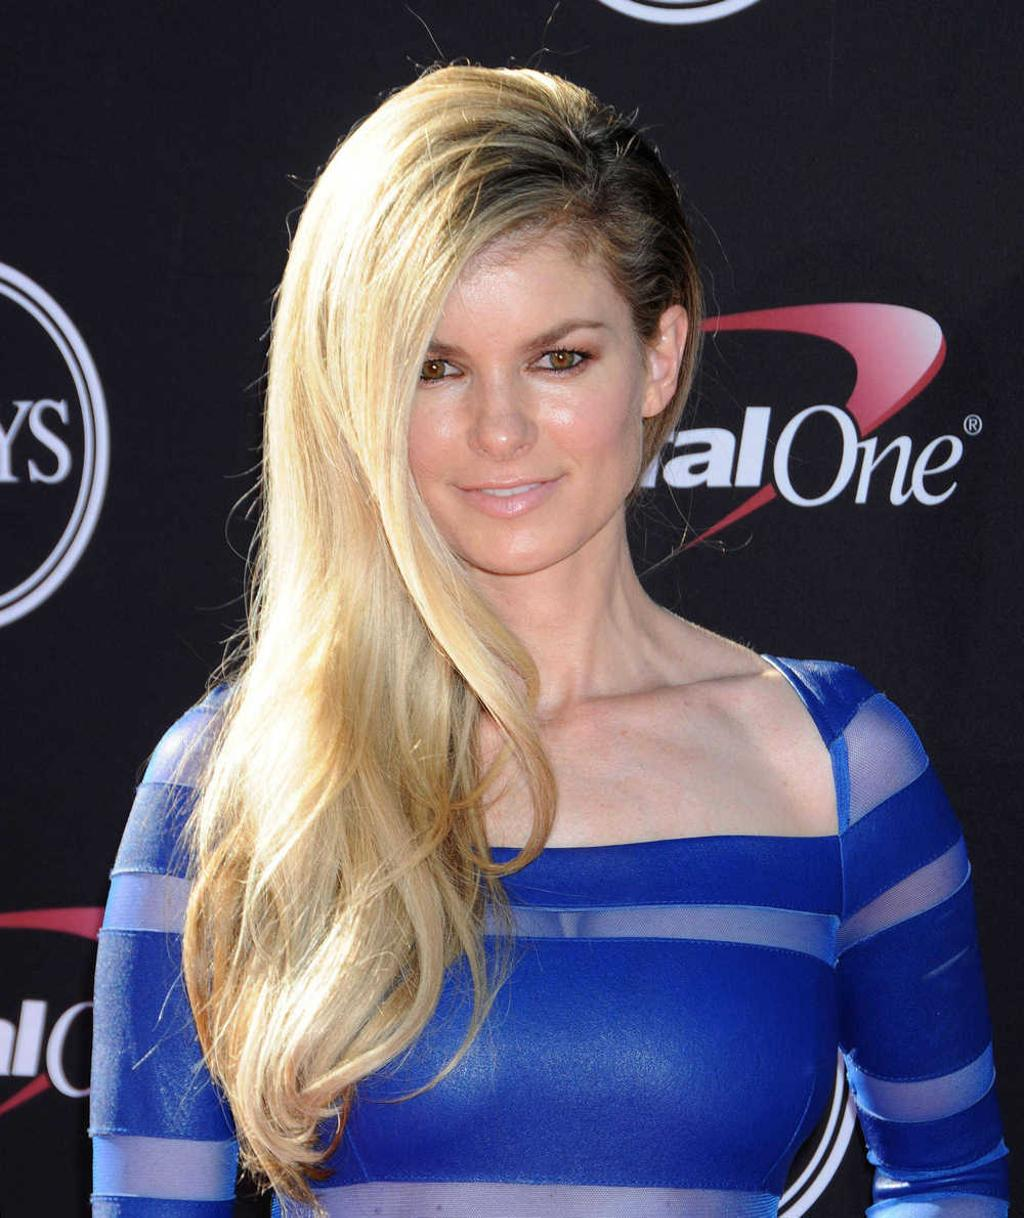face: (366, 211, 644, 575)
